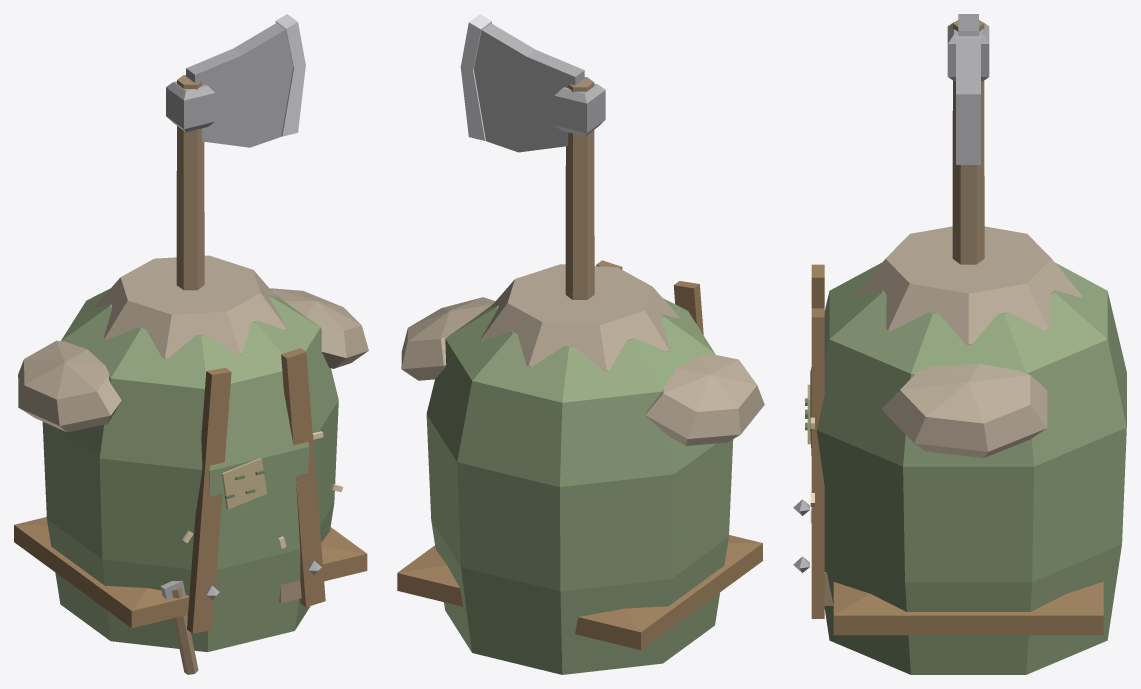
The model's file is woodcutter.glb.
3 views of the same model, side by side, from view 1: azimuth 30°, elevation 25°; view 2: azimuth 150°, elevation 25°; view 3: azimuth 270°, elevation 25° (orthographic). The views are drawn at different scales.
Visible parts, largest first — view 1: Torso, Weapon, PauldronL, PauldronR; view 2: Torso, Weapon, PauldronL, PauldronR; view 3: Torso, PauldronR, Weapon.
Boxes of the visible parts, x1=… form: Torso: x1=14, y1=255, x2=367, y2=674; Weapon: x1=166, y1=14, x2=305, y2=290; PauldronL: x1=18, y1=340, x2=121, y2=432; PauldronR: x1=270, y1=288, x2=368, y2=368; Torso: x1=397, y1=260, x2=762, y2=674; Weapon: x1=460, y1=14, x2=605, y2=299; PauldronL: x1=645, y1=353, x2=764, y2=445; PauldronR: x1=401, y1=297, x2=495, y2=380; Torso: x1=793, y1=226, x2=1126, y2=674; PauldronR: x1=881, y1=363, x2=1047, y2=457; Weapon: x1=947, y1=14, x2=989, y2=264.
Bounding box in the file's own units: 0.8347 × 1.4 × 0.6429.
